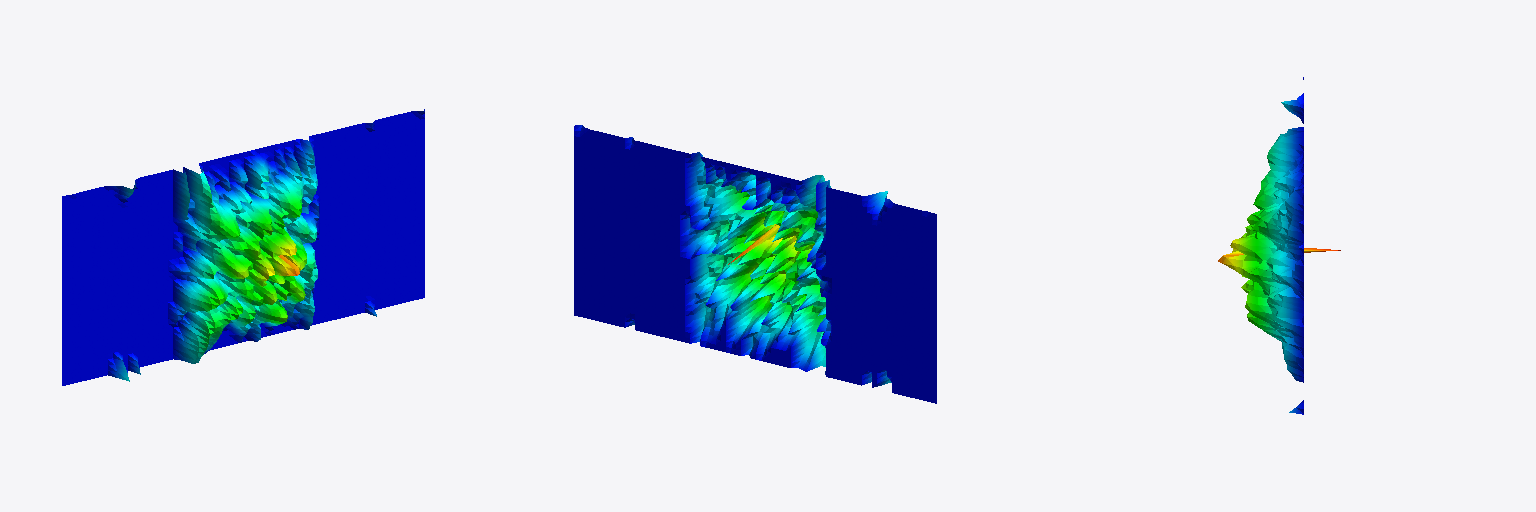
The picture shows the model from 3 angles: view 1: azimuth 30°, elevation 25°; view 2: azimuth 150°, elevation 25°; view 3: azimuth 270°, elevation 25°; orthographic projection.
Size of the model in its own units: 72 by 36 by 21.58.
Materials: 1 (1 with a texture image).